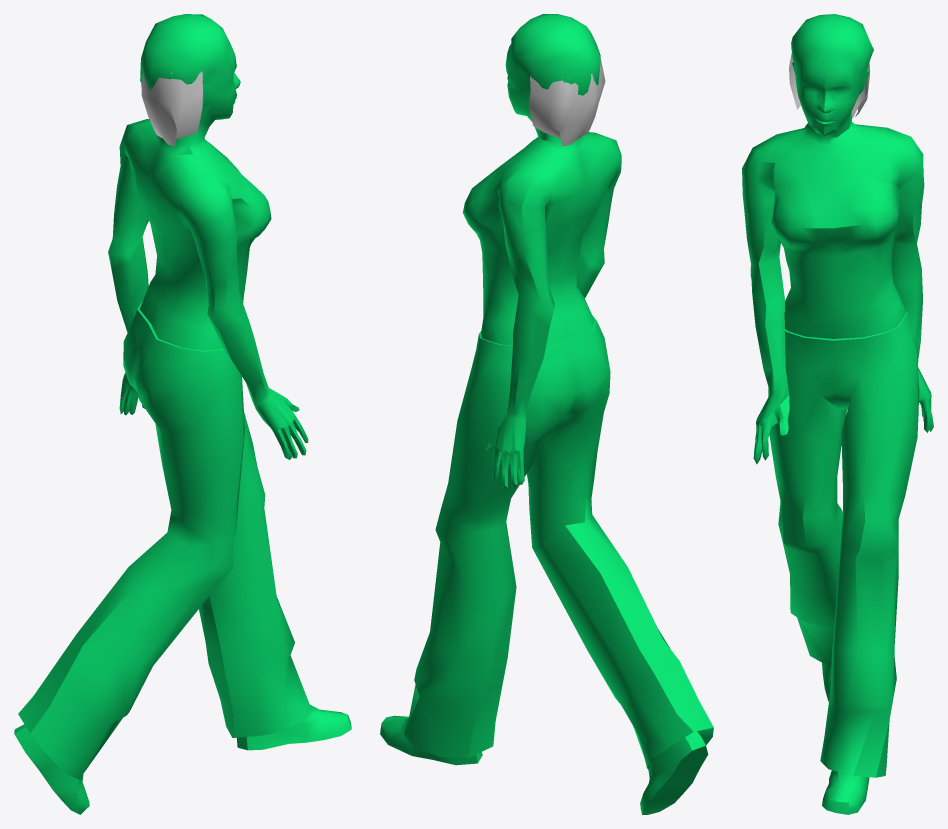
File: SM_Woman_Pants_Stand_Waling.glb
The picture shows the model from 3 angles, left to right: view 1: azimuth 30°, elevation 25°; view 2: azimuth 150°, elevation 25°; view 3: azimuth 270°, elevation 25°; orthographic projection. The views are drawn at different scales.
Visible parts, largest first — view 1: SM_Woman_Pants_Stand_Waling; view 2: SM_Woman_Pants_Stand_Waling; view 3: SM_Woman_Pants_Stand_Waling.
Part boxes in pixels (x1,y1,x2,y2): SM_Woman_Pants_Stand_Waling: (14, 14, 351, 814); SM_Woman_Pants_Stand_Waling: (380, 14, 713, 814); SM_Woman_Pants_Stand_Waling: (742, 14, 933, 814).
Size of the model in its own units: 0.7782 by 1.74 by 0.4101.
